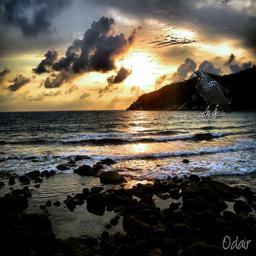Crow: (189, 69, 231, 118)
